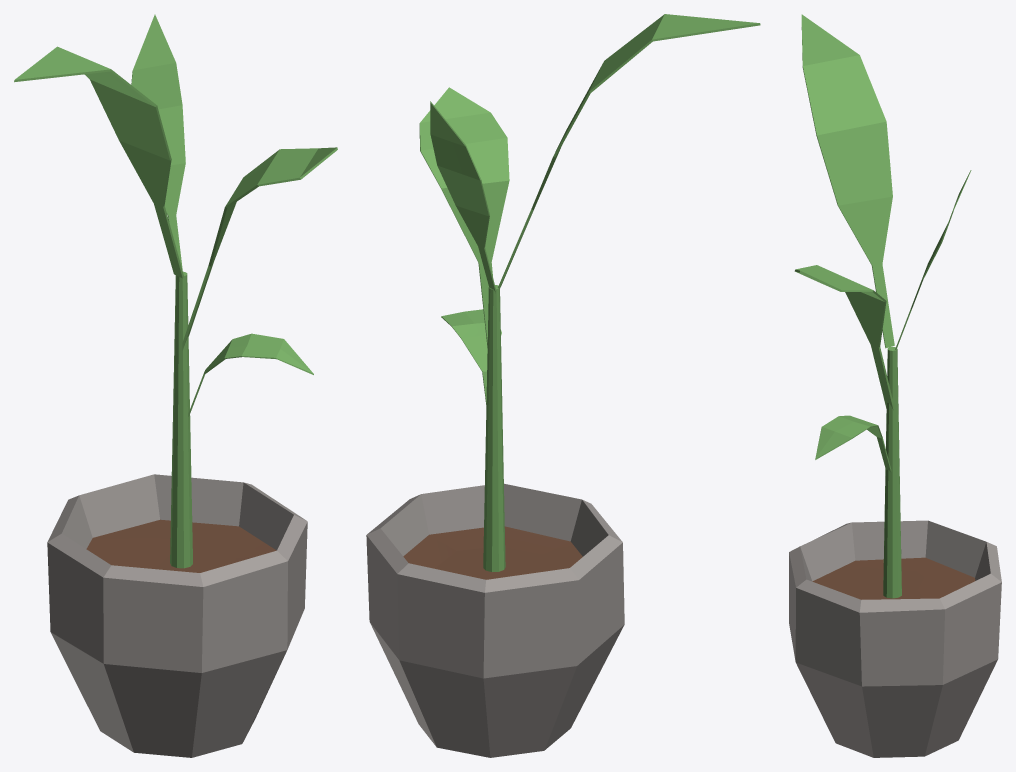
File: Flower_Backyard_Flower_3_231109.glb
3 views of the same model, side by side, from view 1: azimuth 30°, elevation 25°; view 2: azimuth 150°, elevation 25°; view 3: azimuth 270°, elevation 25° (orthographic). The views are drawn at different scales.
Parts seen in each view (by area): view 1: Backyard_Flower_3; view 2: Backyard_Flower_3; view 3: Backyard_Flower_3.
Part boxes in pixels (bbox=[...]): Backyard_Flower_3: bbox=[14, 14, 337, 757]; Backyard_Flower_3: bbox=[366, 14, 760, 757]; Backyard_Flower_3: bbox=[789, 14, 1001, 757].
Size of the model in its own units: 0.8644 by 1.86 by 0.5715.
1 material, 1 textured.
